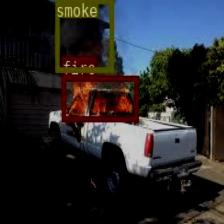fire: (61, 75, 138, 121)
smoke: (55, 0, 113, 72)
